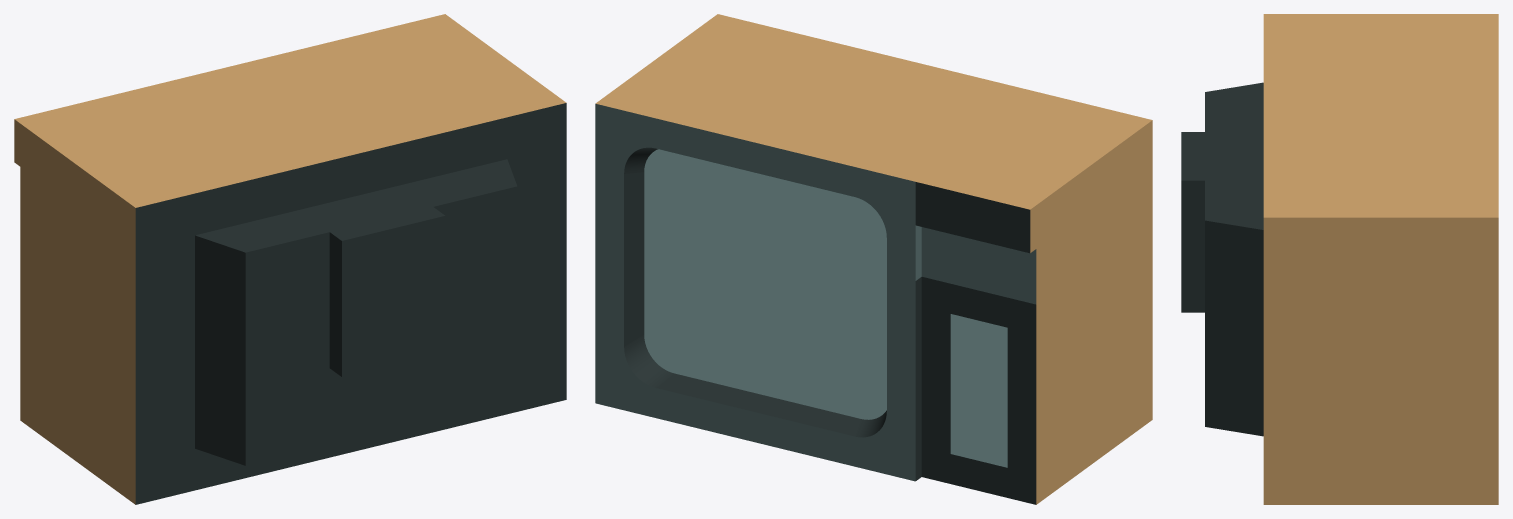
Rendered from televisionVintage.glb.
3 renders of one model, left to right at view 1: azimuth 30°, elevation 25°; view 2: azimuth 150°, elevation 25°; view 3: azimuth 270°, elevation 25°, orthographic. The views are drawn at different scales.
Size of the model in its own units: 4.1 by 2.7 by 2.7.
